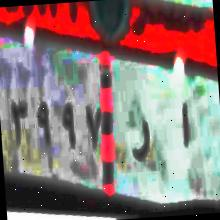3: (8, 92, 30, 154)
7: (84, 98, 104, 152)
9: (33, 100, 56, 148), (59, 100, 79, 154)
alif: (175, 97, 194, 155)
raa: (128, 118, 153, 170)
